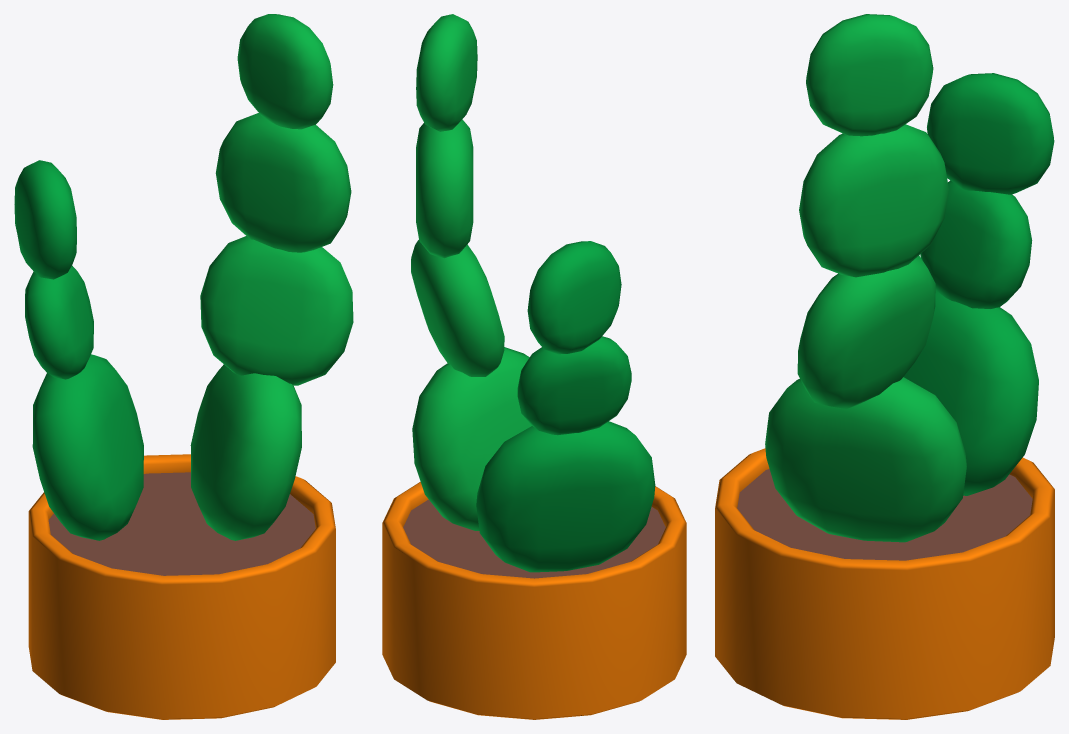
File: Town_6_Plant_1.glb
The picture shows the model from 3 angles, left to right: view 1: azimuth 30°, elevation 25°; view 2: azimuth 150°, elevation 25°; view 3: azimuth 270°, elevation 25°; orthographic projection. The views are drawn at different scales.
Parts seen in each view (by area): view 1: Town_6_Plant_1; view 2: Town_6_Plant_1; view 3: Town_6_Plant_1.
Boxes of the visible parts, box(x1,y1,x2,y2) form: Town_6_Plant_1: box(14, 14, 353, 719); Town_6_Plant_1: box(382, 14, 686, 719); Town_6_Plant_1: box(715, 14, 1054, 719).
Size of the model in its own units: 0.2399 by 0.5136 by 0.2303.
1 material, 1 textured.
